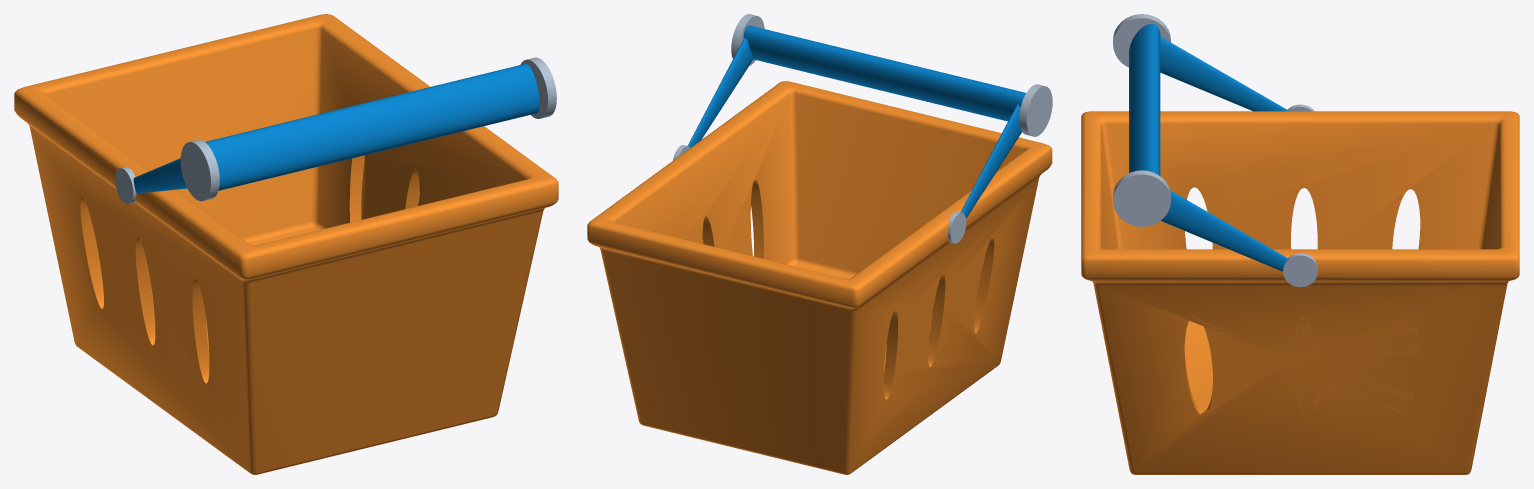
Rendered from Basket.fbx.
The picture shows the model from 3 angles, left to right: view 1: azimuth 30°, elevation 25°; view 2: azimuth 150°, elevation 25°; view 3: azimuth 270°, elevation 25°; orthographic projection. The views are drawn at different scales.
Parts seen in each view (by area): view 1: Cube; view 2: Cube; view 3: Cube.
Part boxes in pixels (x1,y1,x2,y2): Cube: (14,14,558,474); Cube: (587,14,1052,474); Cube: (1081,14,1519,474).
Size of the model in its own units: 259 by 244 by 299.
